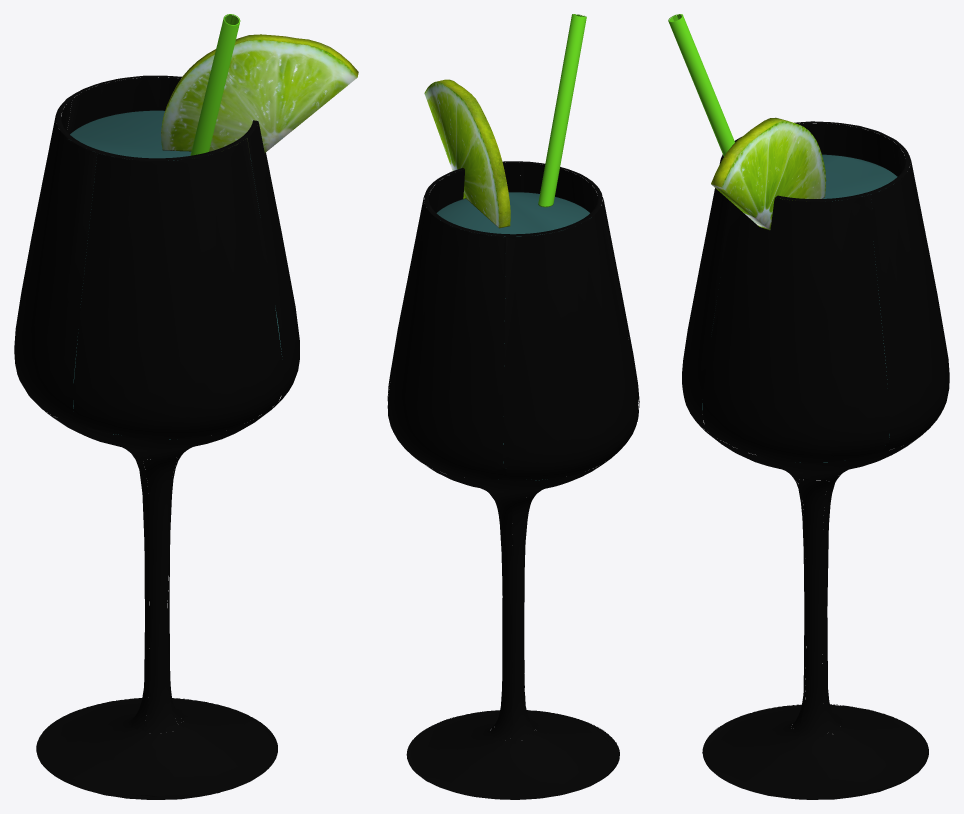
File: novo drink.glb
3 renders of one model, left to right at view 1: azimuth 30°, elevation 25°; view 2: azimuth 150°, elevation 25°; view 3: azimuth 270°, elevation 25°, orthographic. The views are drawn at different scales.
Parts seen in each view (by area): view 1: glass, Cylinder.002, cocktail, Circle_0.001, Cylinder; view 2: glass, Cylinder.002, Circle_0.001, cocktail, Cylinder; view 3: glass, Cylinder.002, Cylinder, Circle_0.001, cocktail.
Boxes of the visible parts, x1,y1,x2,y2 form: glass: (14,75,299,799); Cylinder.002: (161,34,358,152); cocktail: (70,110,282,439); Circle_0.001: (70,110,209,160); Cylinder: (190,14,240,155); glass: (387,161,639,799); Cylinder.002: (424,79,510,228); Circle_0.001: (436,191,589,236); cocktail: (437,192,589,480); Cylinder: (538,14,586,207); glass: (682,121,949,799); Cylinder.002: (711,117,826,230); Cylinder: (668,14,734,156); Circle_0.001: (822,154,897,201); cocktail: (702,154,897,462).
Size of the model in its own units: 0.1538 by 0.421 by 0.1456.
5 materials, 1 textured.
